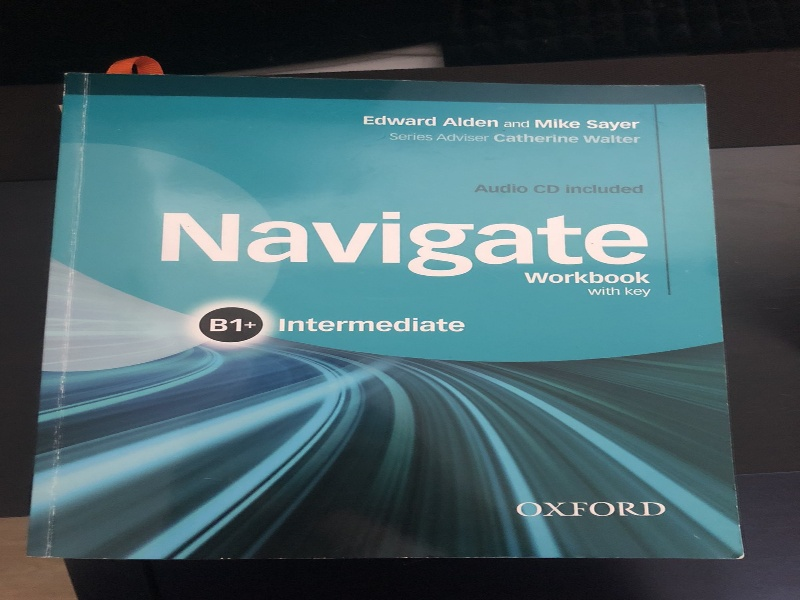document: (26, 71, 741, 557)
